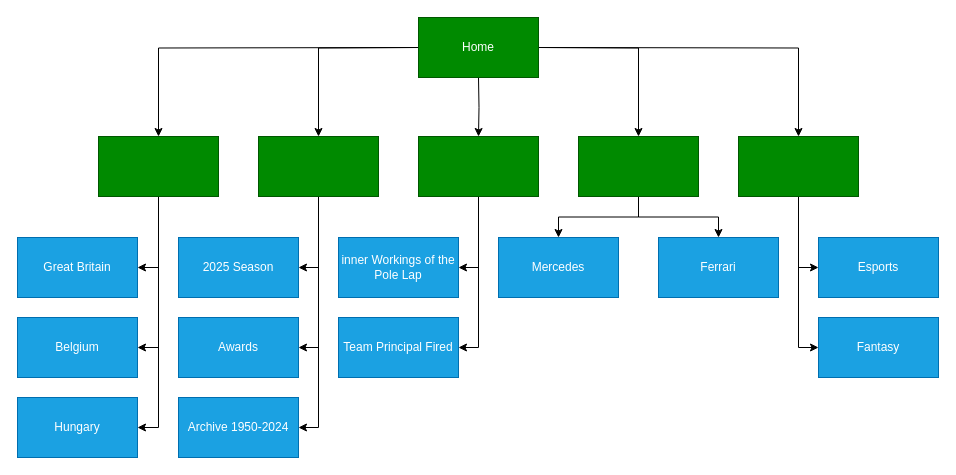
The diagram is 956 pixels wide and 475 high, and some of its shapes have lost their labels. The shapes that lost their labels are listed below. From the top down, each one's centre as x and y in pixels, then its label:
point 158,166: Schedule
point 318,166: Results
point 478,166: News
point 638,166: Drivers
point 798,166: Fantasy & Gaming
